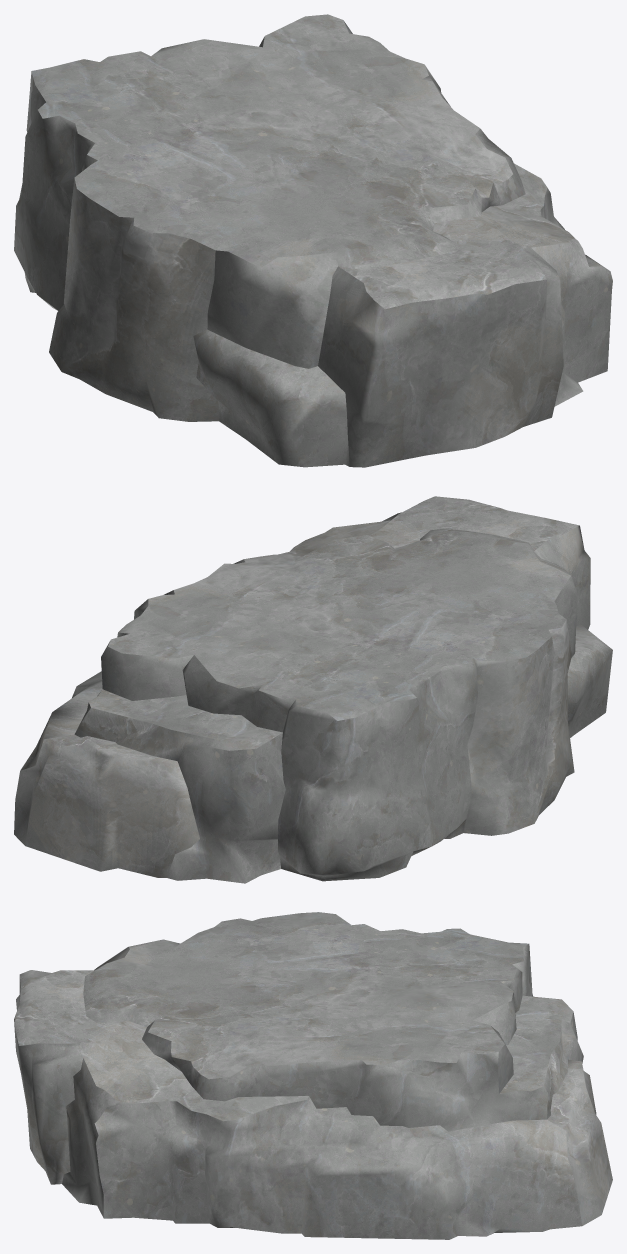
The model's file is SM_Com_Roc_24AS.fbx.
The picture shows the model from 3 angles, top to bottom: view 1: azimuth 30°, elevation 25°; view 2: azimuth 150°, elevation 25°; view 3: azimuth 270°, elevation 25°; orthographic projection. The views are drawn at different scales.
Visible parts, largest first — view 1: SM_Com_Roc_24AS.mo; view 2: SM_Com_Roc_24AS.mo; view 3: SM_Com_Roc_24AS.mo.
Part boxes in pixels (<box>): SM_Com_Roc_24AS.mo: <box>14,14,612,467</box>; SM_Com_Roc_24AS.mo: <box>14,496,612,883</box>; SM_Com_Roc_24AS.mo: <box>14,912,612,1239</box>.
Bounding box in the file's own units: 18.42 × 7.26 × 25.34.
